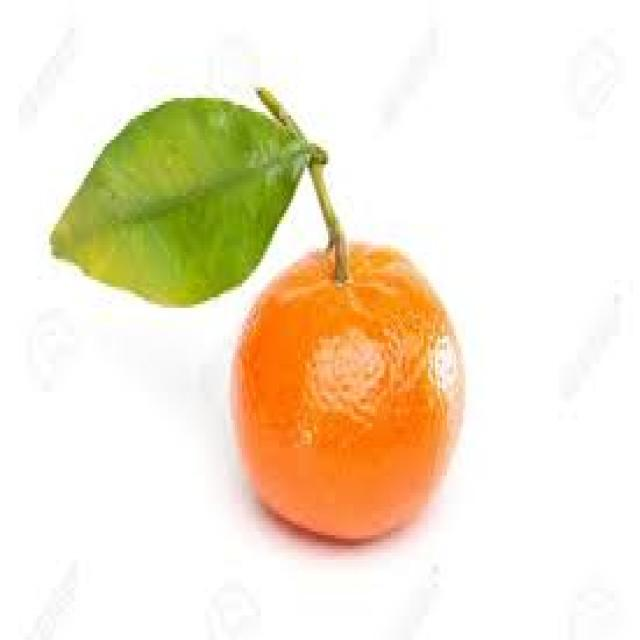organic waste: (230, 234, 466, 546), (47, 87, 314, 308)
